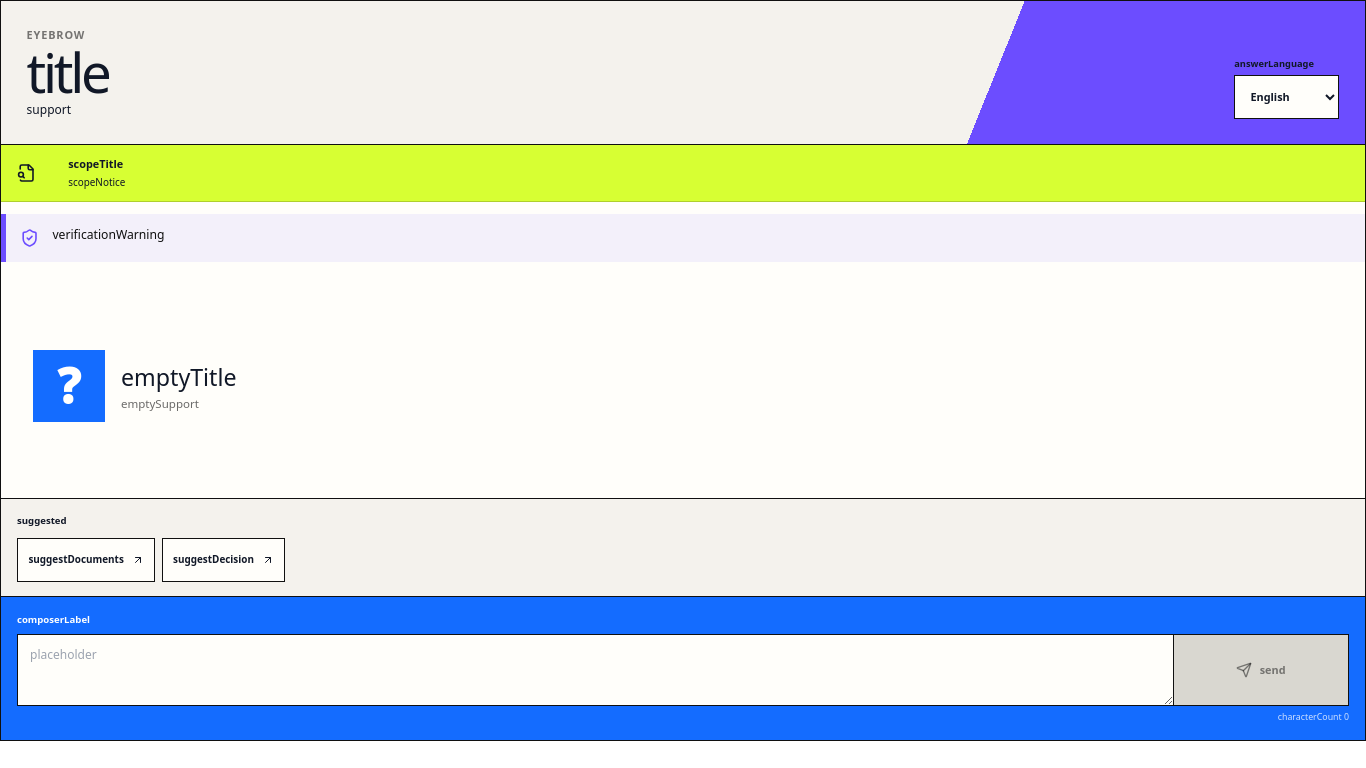
Test: AskTenderMateReport › renders a deterministic unrelated-question response without citations
Expected: the heading "emptyTitle" is shown, [121,361,236,393]
Type "Tell me a joke" into the text box labelled "composerLabel" at (595, 670), box [17,634,1173,706]
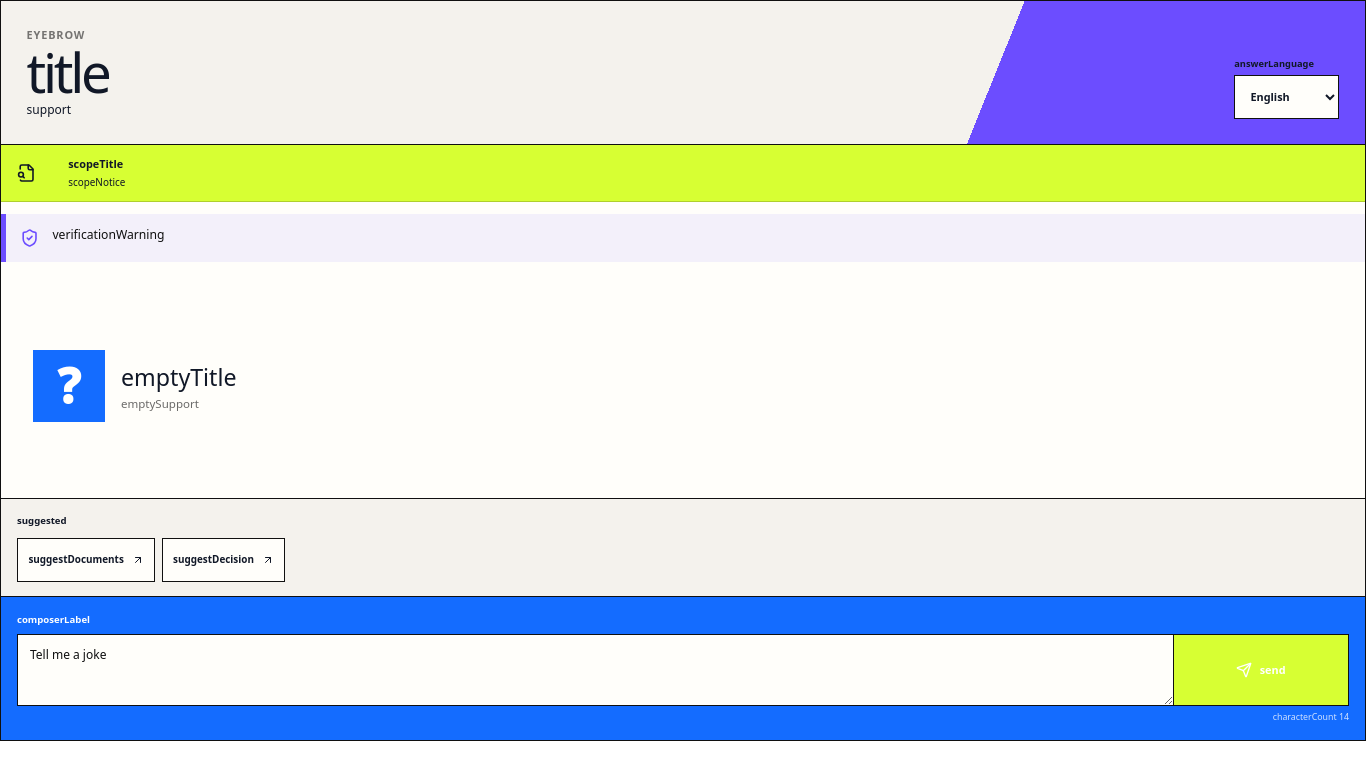
Submit the form labelled "composerLabel", box [1,596,1365,740]
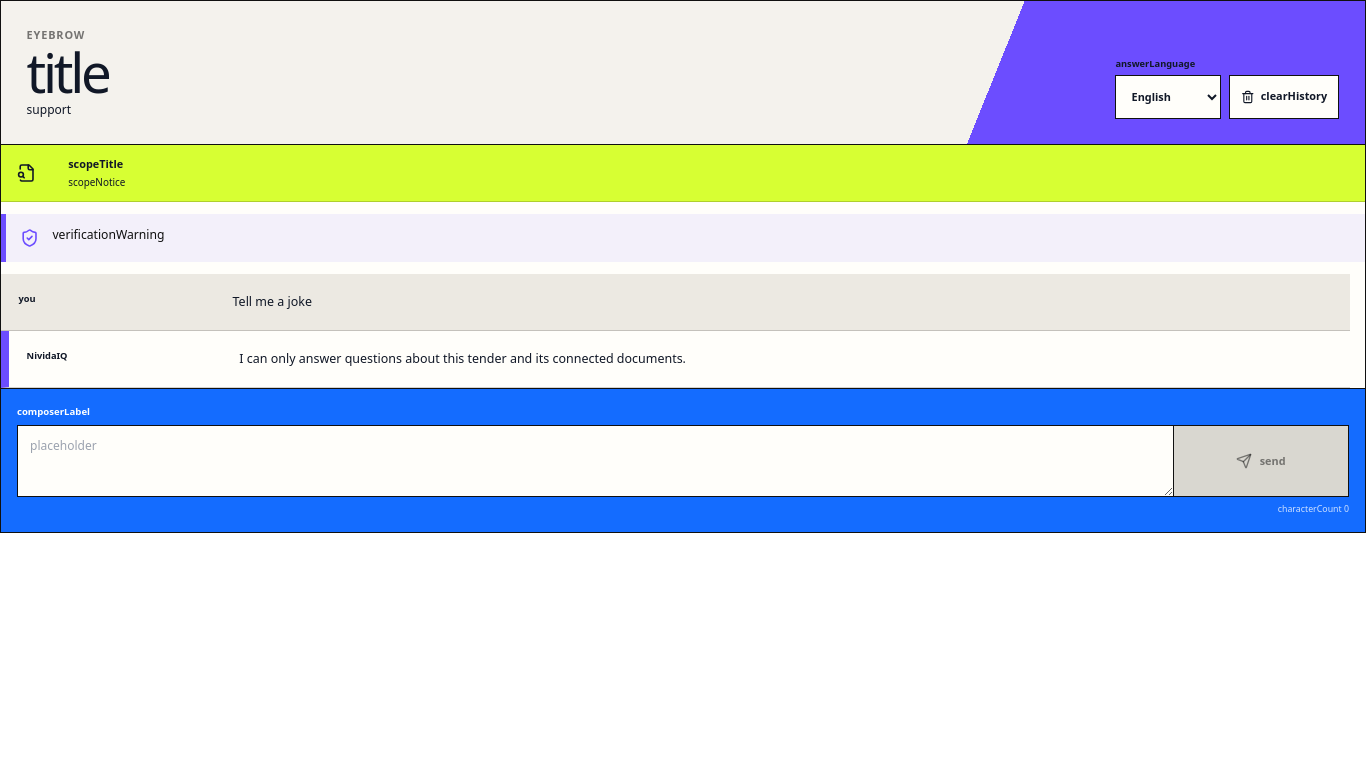
Result: the text "I can only answer questions about this tender and its connected documents." is shown at [239,348,753,369]
